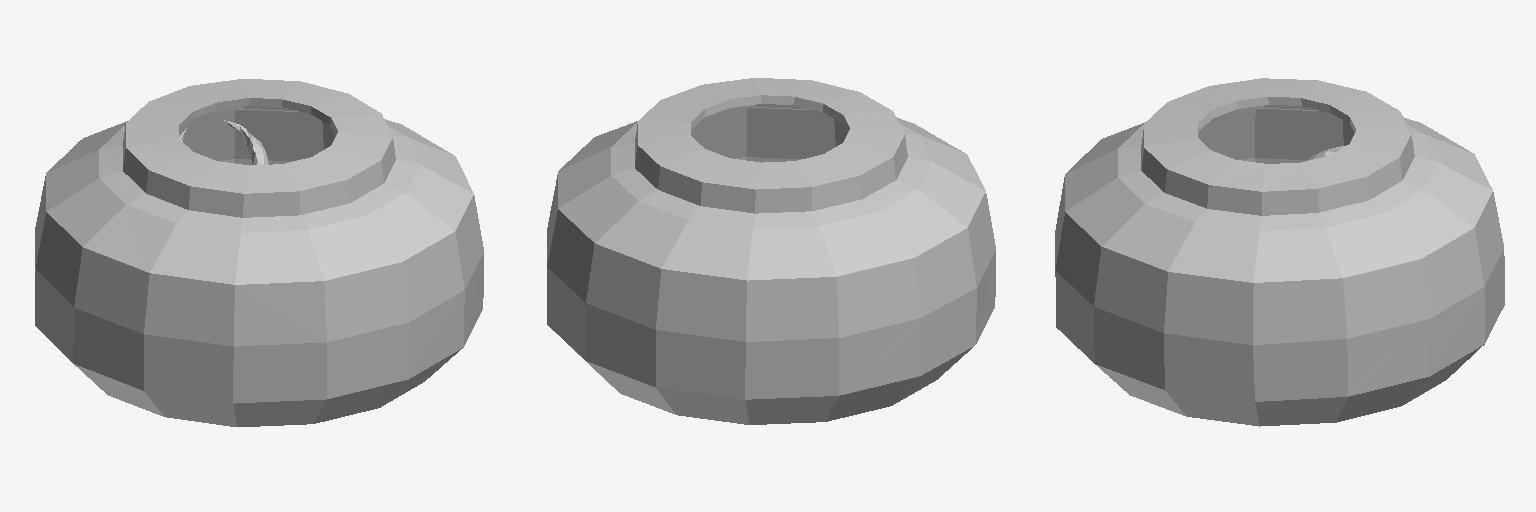
Rendered from SubstanceMesh FishBowl.obj.
The picture shows the model from 3 angles: view 1: azimuth 30°, elevation 25°; view 2: azimuth 150°, elevation 25°; view 3: azimuth 270°, elevation 25°; orthographic projection.
Parts seen in each view (by area): view 1: nurbsToPoly2, SeaDragonforFishBowl:polySurface2_SeaDragonforFishBowl:polySurfa; view 2: nurbsToPoly2; view 3: nurbsToPoly2.
Boxes of the visible parts, x1=… form: nurbsToPoly2: x1=35, y1=79, x2=483, y2=426; SeaDragonforFishBowl:polySurface2_SeaDragonforFishBowl:polySurfa: x1=179, y1=119, x2=268, y2=164; nurbsToPoly2: x1=547, y1=78, x2=995, y2=424; nurbsToPoly2: x1=1055, y1=78, x2=1504, y2=426.
Bounding box in the file's own units: 33.2 × 20.4 × 33.03.